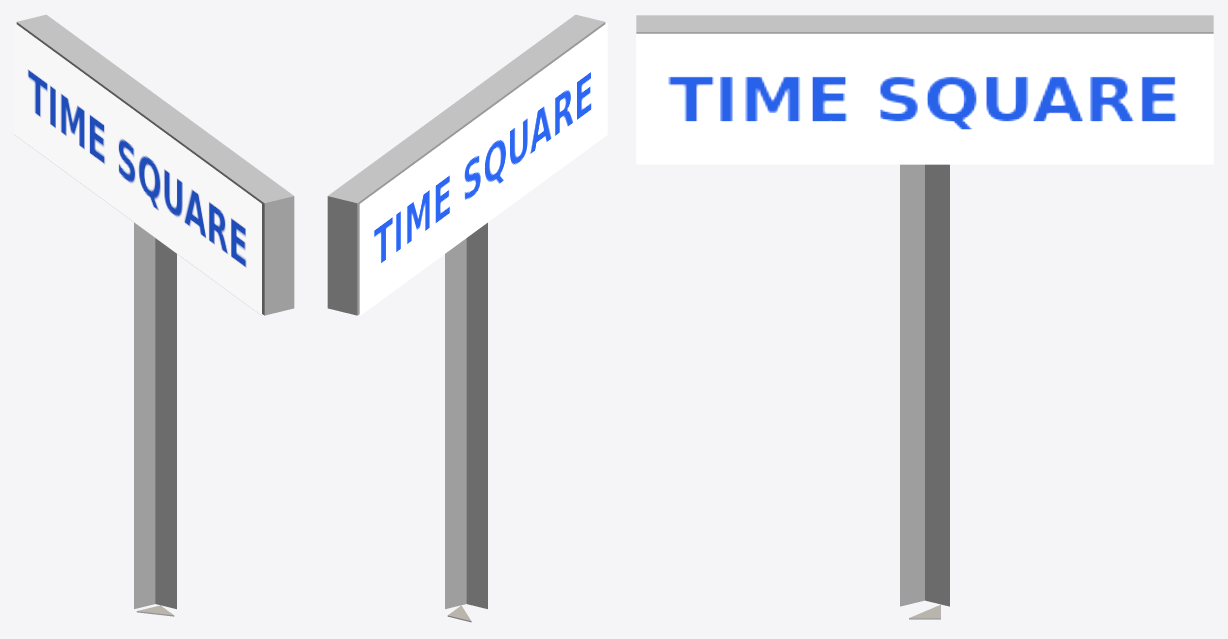
The model's file is timesquare_pb.glb.
The picture shows the model from 3 angles, left to right: view 1: azimuth 30°, elevation 25°; view 2: azimuth 150°, elevation 25°; view 3: azimuth 270°, elevation 25°; orthographic projection. The views are drawn at different scales.
Parts seen in each view (by area): view 1: timesquare_pb_lod0; view 2: timesquare_pb_lod0; view 3: timesquare_pb_lod0.
Part boxes in pixels (x1,y1,x2,y2): timesquare_pb_lod0: (14, 14, 294, 616); timesquare_pb_lod0: (327, 14, 607, 622); timesquare_pb_lod0: (636, 15, 1213, 619).
Size of what is drawn, in the model's own units: 0.3599 by 4.05 by 3.6.
4 materials, 1 textured.
